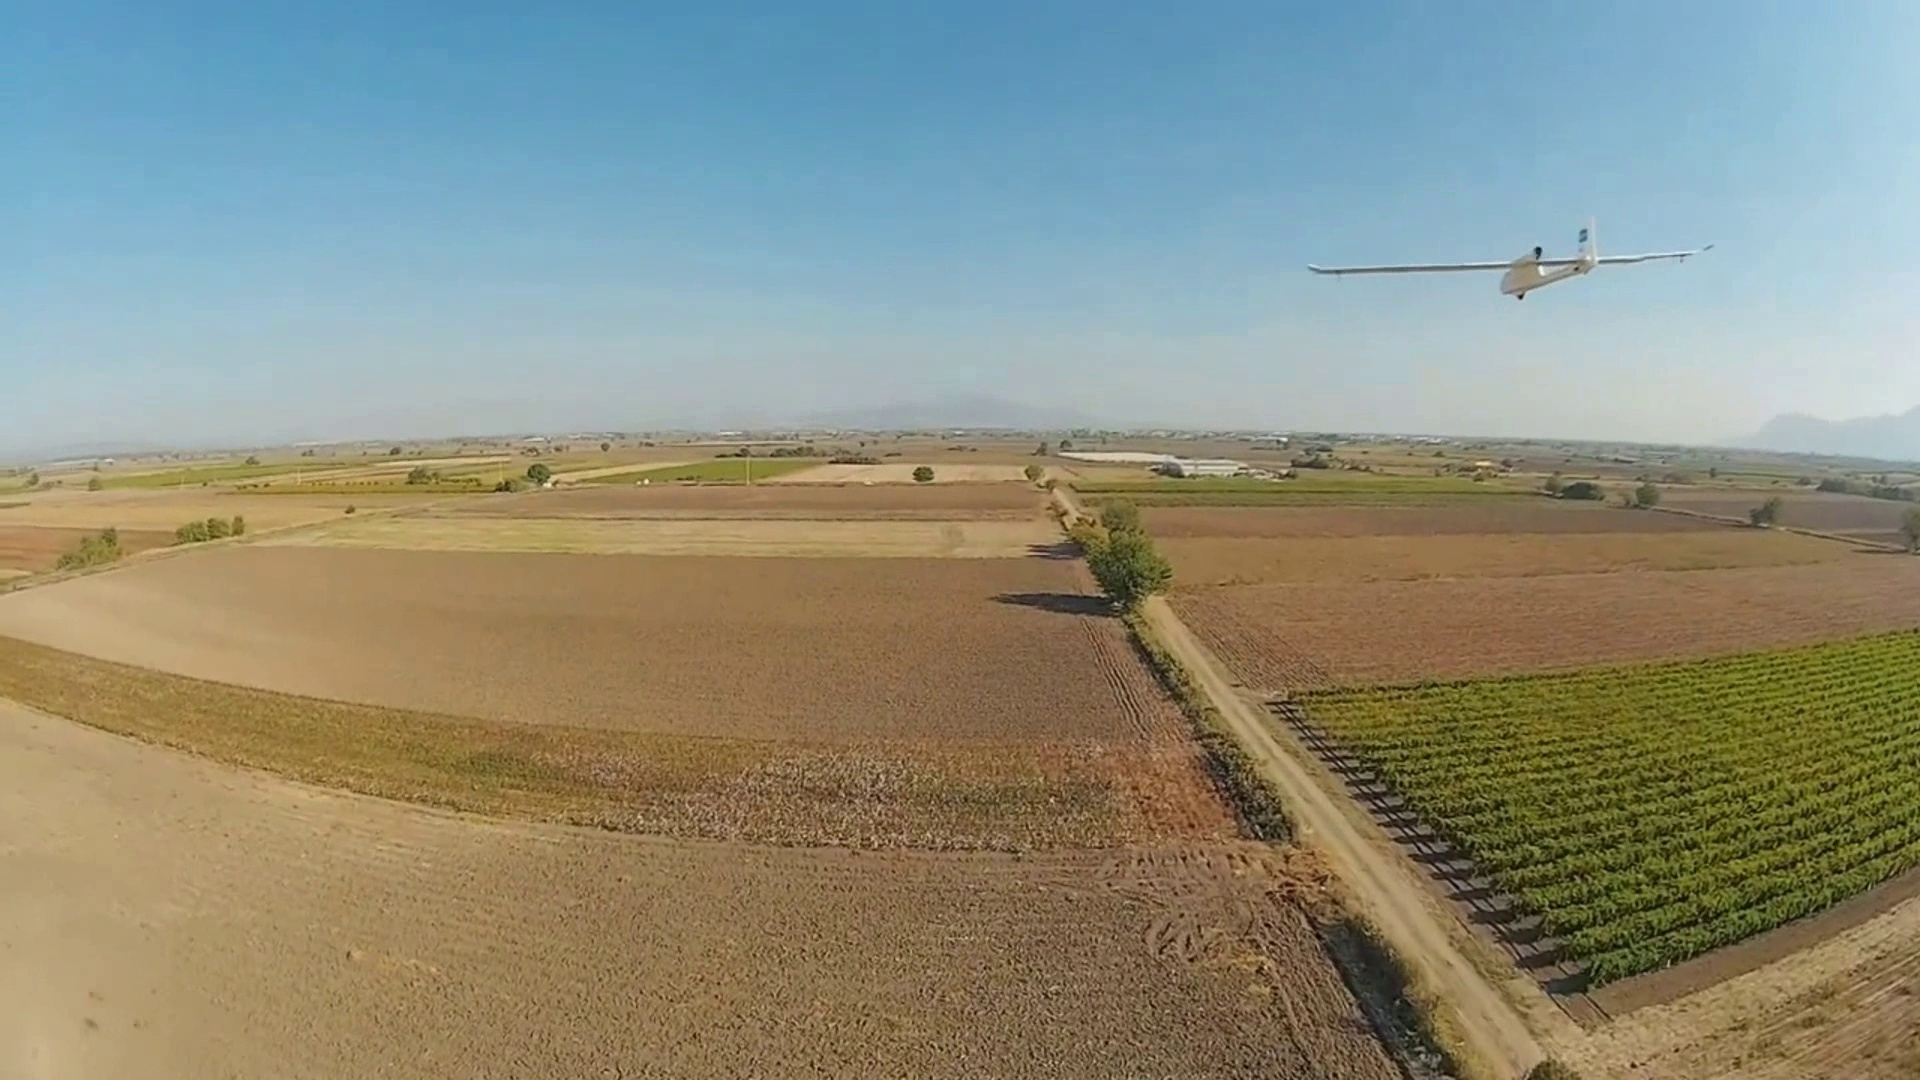airplane: (1307, 219, 1710, 303)
